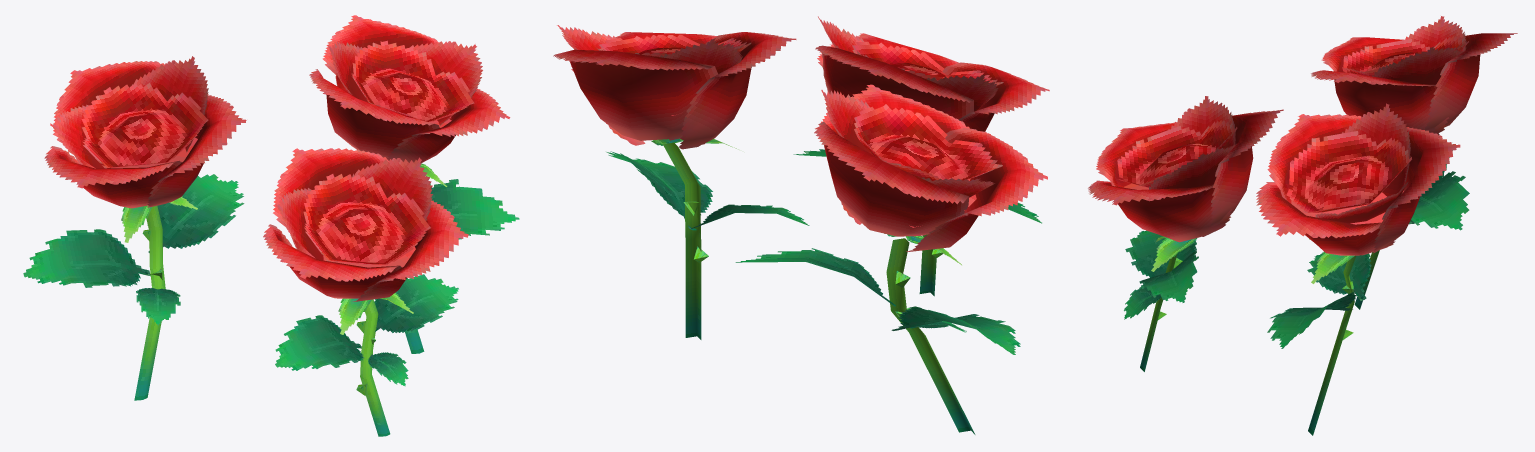
The model's file is red-roses.glb.
3 renders of one model, left to right at view 1: azimuth 30°, elevation 25°; view 2: azimuth 150°, elevation 25°; view 3: azimuth 270°, elevation 25°, orthographic. The views are drawn at different scales.
Bounding box in the file's own units: 10.07 × 6.53 × 8.37.
2 materials, 2 textured.
